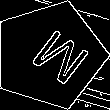M_SW: (14, 21, 85, 89)
